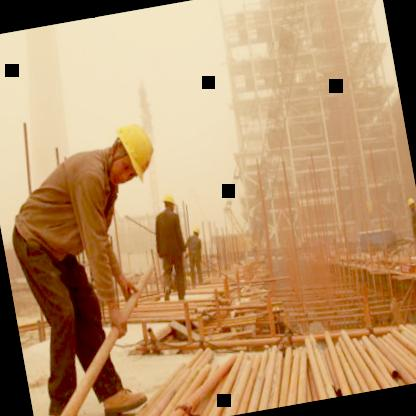helmet: (98, 113, 157, 190), (158, 188, 178, 214), (189, 223, 202, 242), (405, 194, 416, 211)
